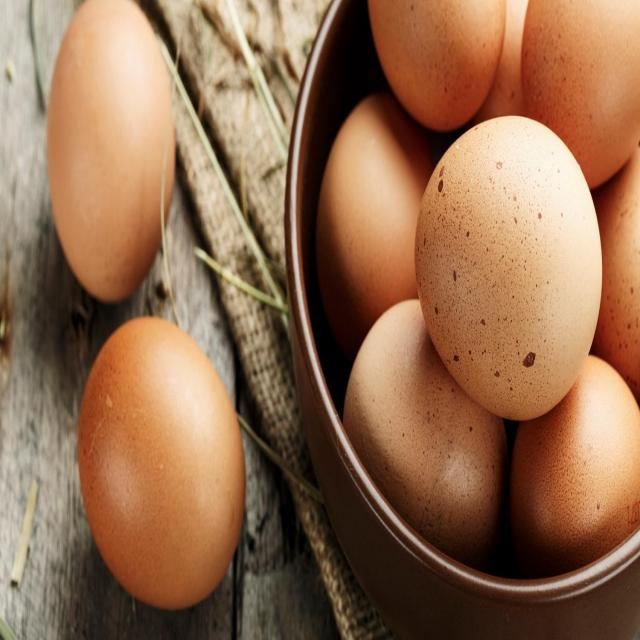eggs: (414, 115, 602, 418), (79, 318, 245, 608), (345, 302, 503, 549), (46, 0, 175, 299), (512, 353, 640, 568), (320, 100, 425, 348), (520, 0, 640, 186), (368, 0, 505, 128), (604, 161, 640, 391)
